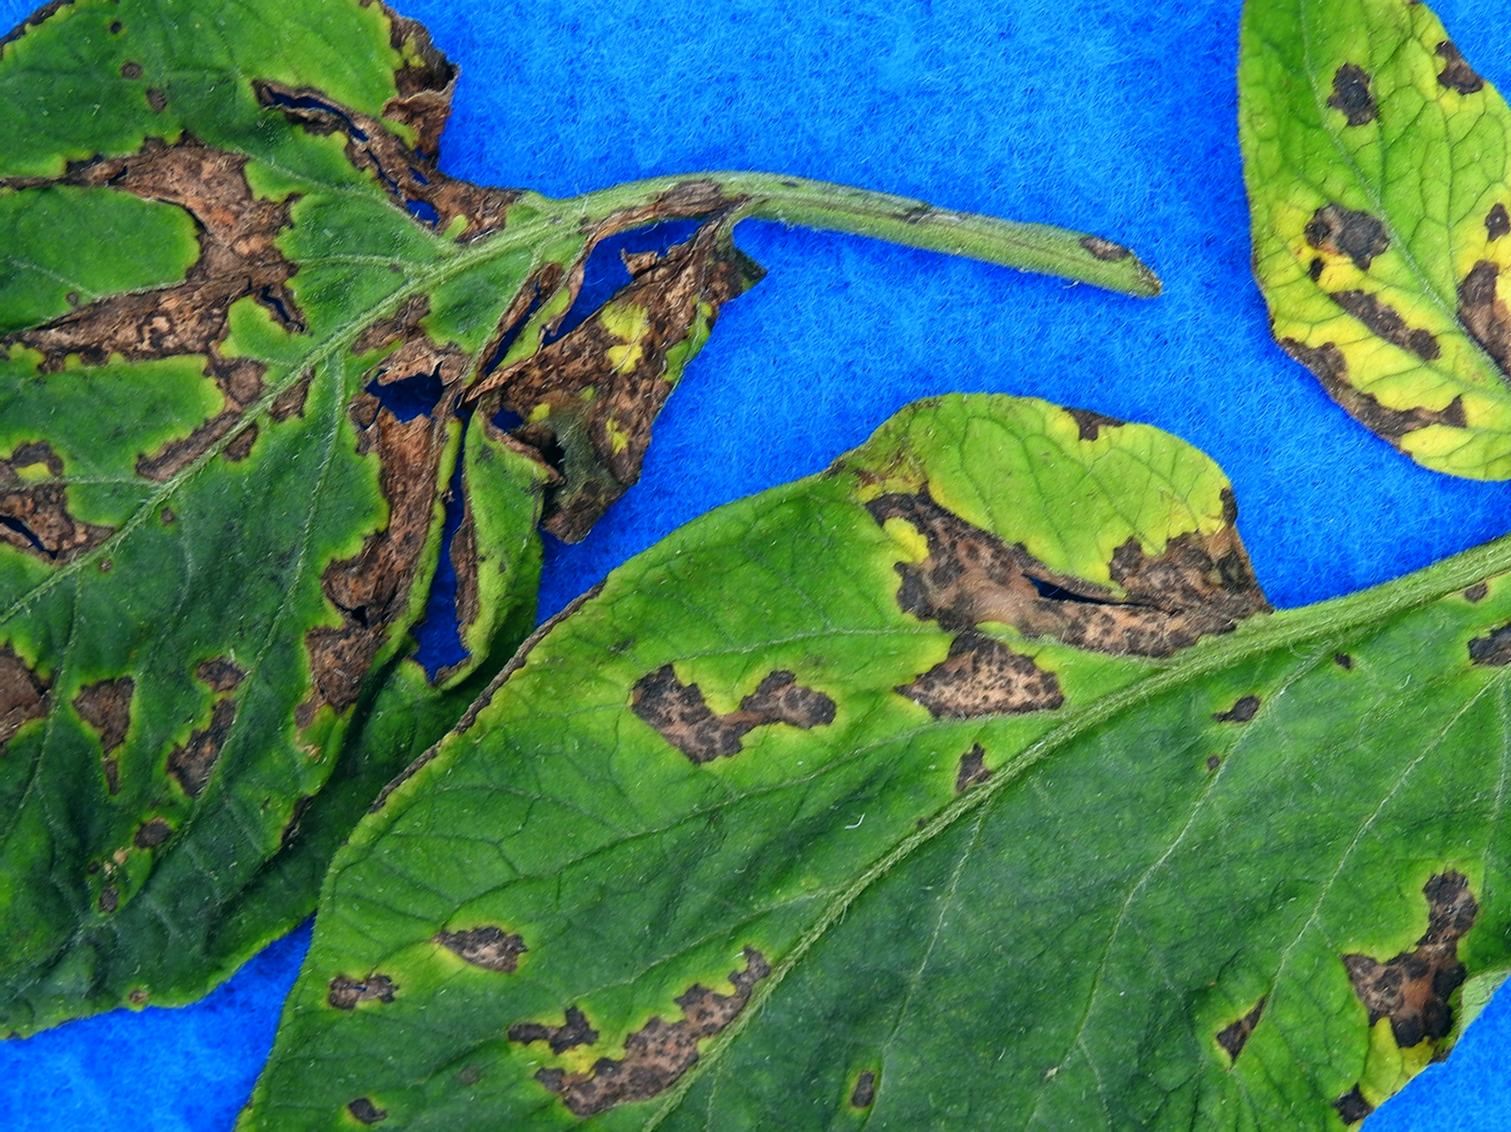Tomato leaf bacterial spot: (62, 326, 1511, 1132), (0, 0, 694, 1109), (1191, 0, 1511, 485)
